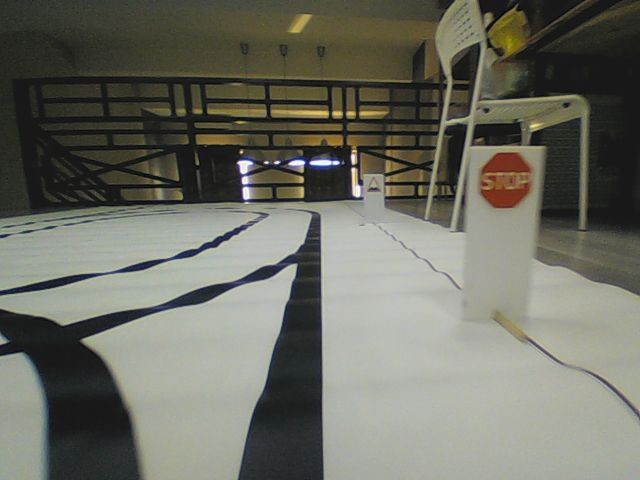Nerov: (366, 176, 381, 194)
Stop: (478, 151, 532, 209)
